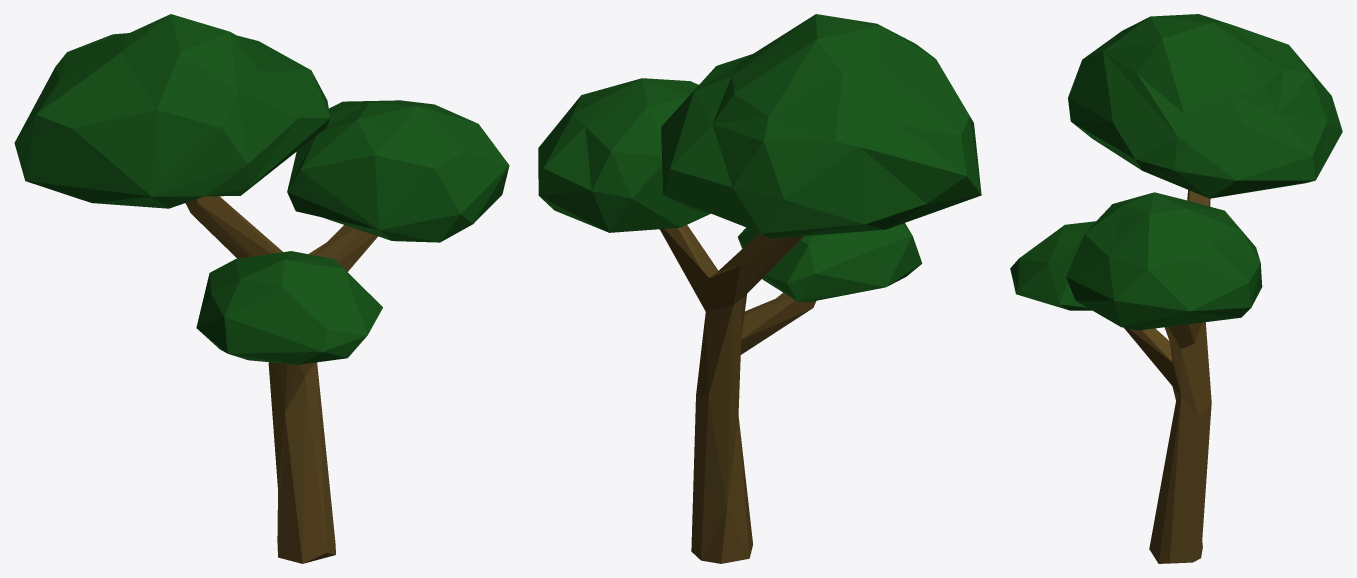
Rendered from tree.fbx.
3 views of the same model, side by side, from view 1: azimuth 30°, elevation 25°; view 2: azimuth 150°, elevation 25°; view 3: azimuth 270°, elevation 25° (orthographic). The views are drawn at different scales.
Parts seen in each view (by area): view 1: trunk_Cube; view 2: trunk_Cube; view 3: trunk_Cube.
Boxes of the visible parts, x1=… form: trunk_Cube: x1=14, y1=14, x2=509, y2=563; trunk_Cube: x1=538, y1=14, x2=981, y2=563; trunk_Cube: x1=1010, y1=14, x2=1342, y2=563.
Size of the model in its own units: 734 by 872 by 543.
